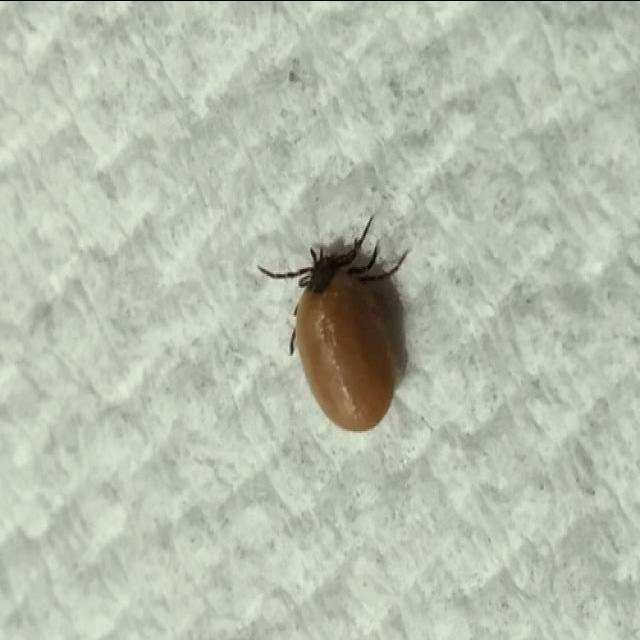Ixodes Ricinus-F-Fed: (261, 232, 406, 432)
